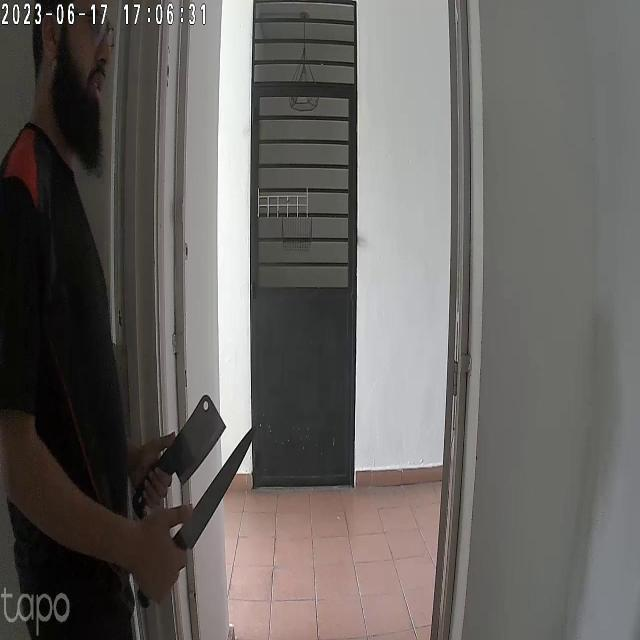Knife: (159, 420, 259, 572), (139, 390, 220, 498)
